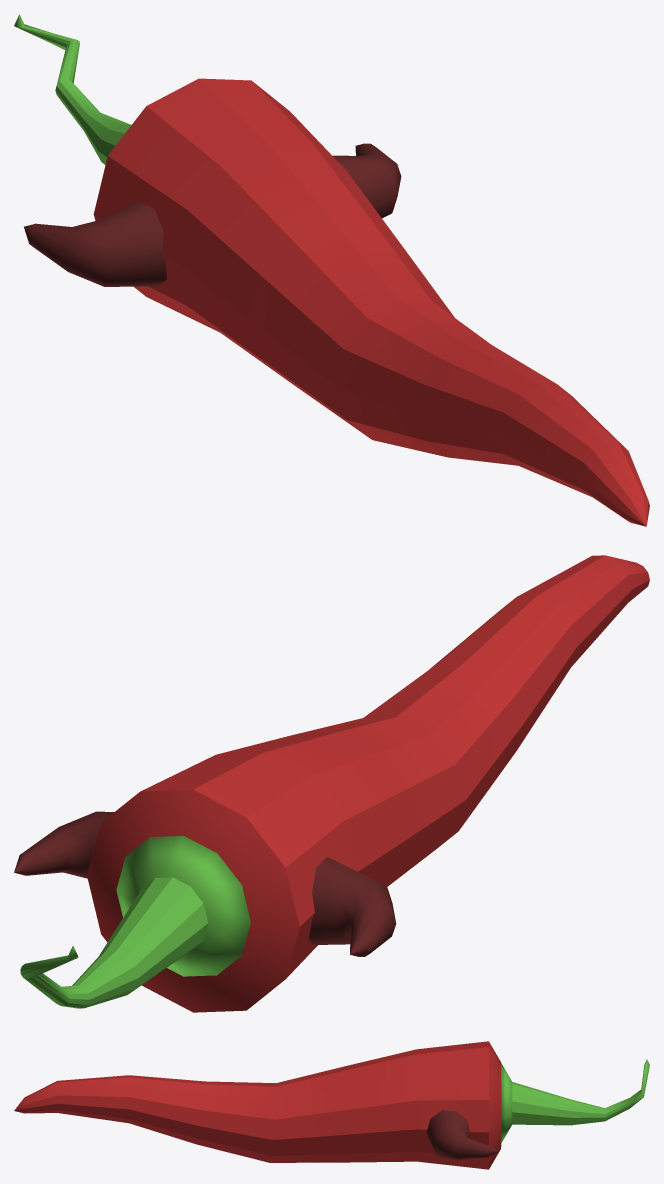
The model's file is Hellapino.fbx.
3 renders of one model, top to bottom at view 1: azimuth 30°, elevation 25°; view 2: azimuth 150°, elevation 25°; view 3: azimuth 270°, elevation 25°, orthographic. The views are drawn at different scales.
Parts seen in each view (by area): view 1: polySurface1; view 2: polySurface1; view 3: polySurface1.
Part boxes in pixels (bbox=[...]): polySurface1: bbox=[14, 14, 649, 526]; polySurface1: bbox=[14, 555, 649, 1012]; polySurface1: bbox=[14, 1041, 649, 1169].
Bounding box in the file's own units: 2.6 × 1.56 × 7.69.
